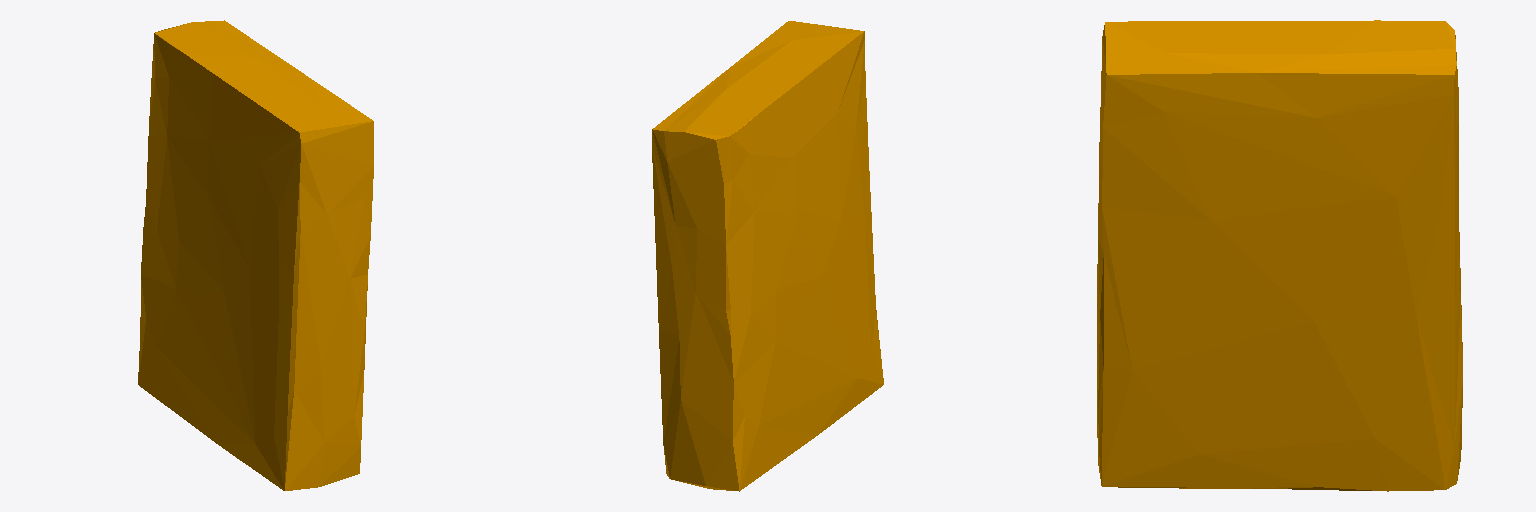
robot.urdf — NutCandy_800_tex:
<?xml version="1.0"?>
<robot name="NutCandy_800_tex">
  <link name="base_link">
    <contact>
      <lateral_friction value="1.0"/>
      <rolling_friction value="0.0"/>
      <contact_cfm value="0.0"/>
      <contact_erp value="1.0"/>
    </contact>
    <inertial>
      <mass value="0.0245845955842"/>
      <inertia ixx="1" ixy="0" ixz="0" iyy="1" iyz="0" izz="1"/>
    </inertial>
    <visual>
      <geometry>
        <mesh filename="NutCandy_800_tex_visual.obj"/>
      </geometry>
    </visual>
    <collision>
      <geometry>
        <mesh filename="NutCandy_800_tex_collision.obj"/>
      </geometry>
    </collision>
  </link>
</robot>

--- Render facts (derived) ---
Views: 3 orthographic renders of the robot side by side, from view 1: azimuth 30°, elevation 25°; view 2: azimuth 150°, elevation 25°; view 3: azimuth 270°, elevation 25°.
Model NutCandy_800_tex with 1 links and 0 joints (none), rooted at base_link, posed all joints at 0.
Visible links, largest first — view 1: base_link; view 2: base_link; view 3: base_link.
Link boxes in pixels (left/top/right/bottom): base_link: left=138, top=20, right=373, bottom=490; base_link: left=652, top=21, right=883, bottom=491; base_link: left=1097, top=20, right=1462, bottom=491.
Size in the robot's own frame: 0.0161 by 0.0448 by 0.0598 metres.
Meshes: 1 distinct files referenced, 1 mesh visuals loaded (1 OBJ).